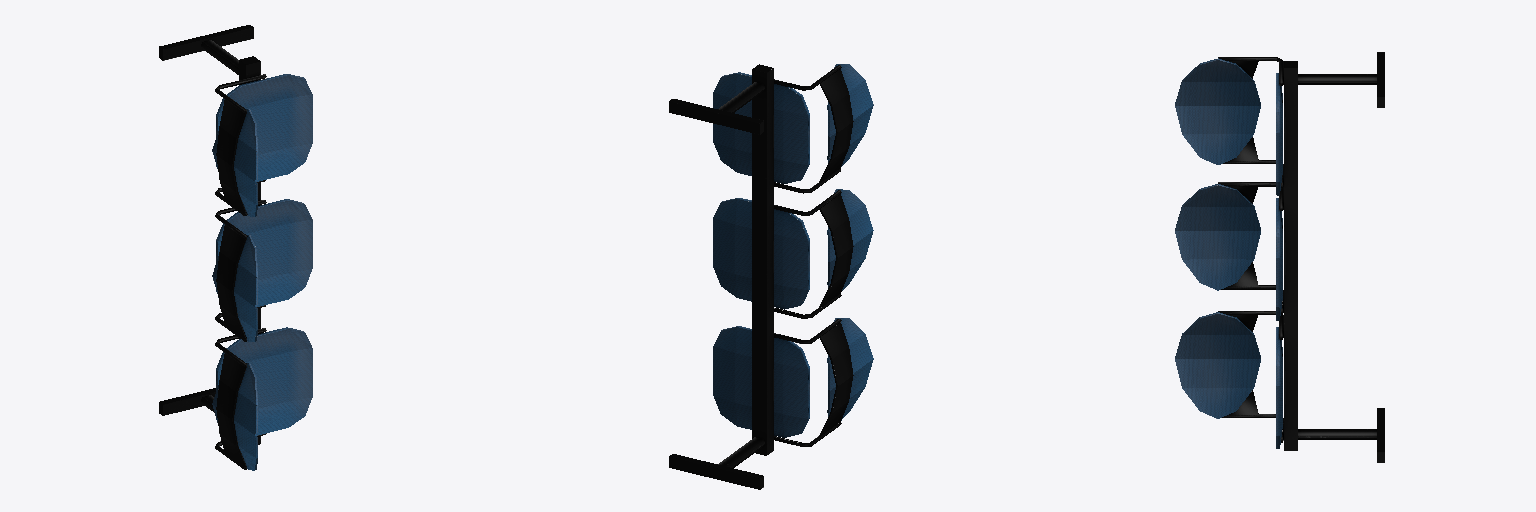
3 views of the same model, side by side, from view 1: azimuth 30°, elevation 25°; view 2: azimuth 150°, elevation 25°; view 3: azimuth 270°, elevation 25° (orthographic).
Parts seen in each view (by area): view 1: PotatoChipsChair; view 2: PotatoChipsChair; view 3: PotatoChipsChair.
Boxes of the visible parts, box(x1,y1,x2,y2) form: PotatoChipsChair: box(159, 25, 312, 470); PotatoChipsChair: box(669, 64, 873, 489); PotatoChipsChair: box(1175, 52, 1384, 462).
Bounding box in the file's own units: 0.4856 × 1.62 × 0.8083.
1 materials, 1 textured.